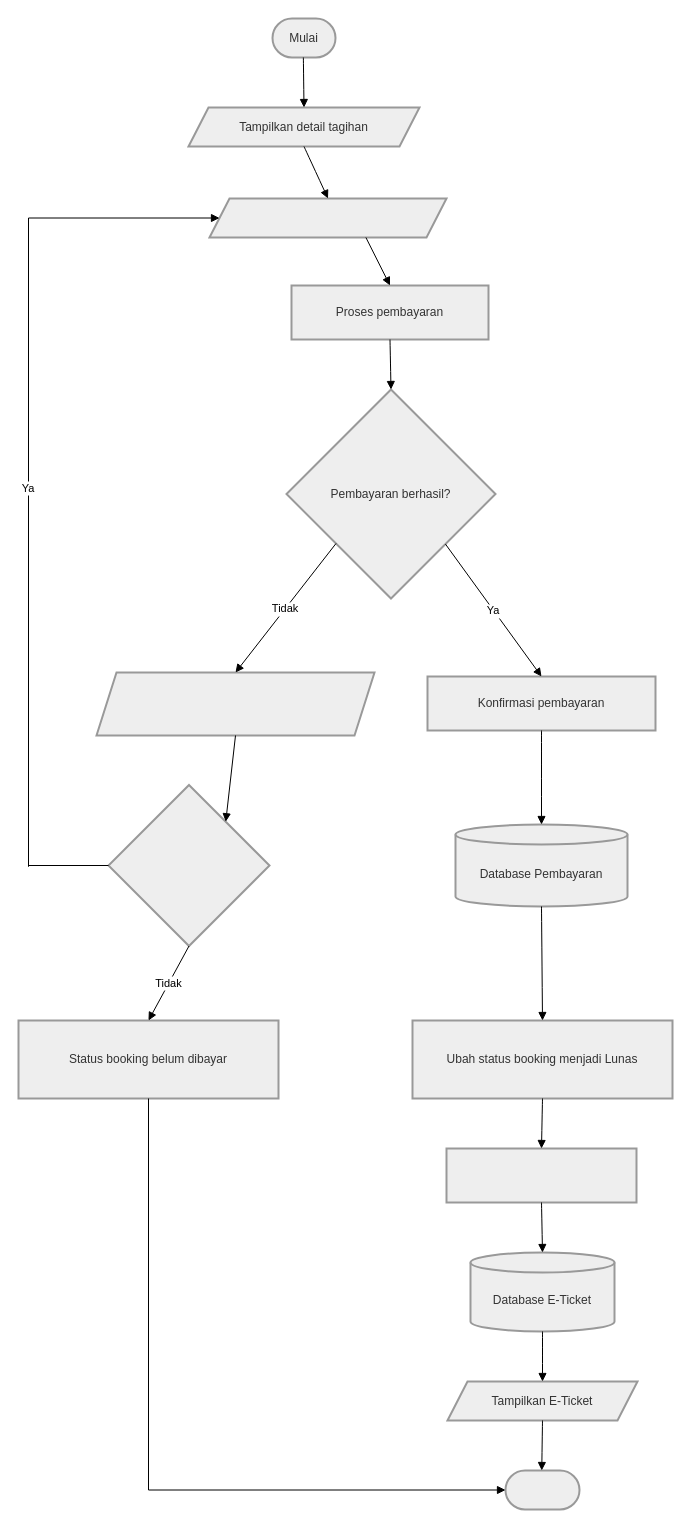
This 690x1527 diagram has some shape labels left out. The box of each missing label's shape, as (x1, y1, x2, y2) in pixels:
Bayar kembali?: (107, 784, 270, 946)
Generate E-Ticket: (445, 1147, 637, 1203)
Pilih metode pembayaran: (208, 197, 447, 238)
Selesai: (504, 1469, 580, 1510)
Tampilkan pembayaran gagal: (95, 671, 375, 736)
